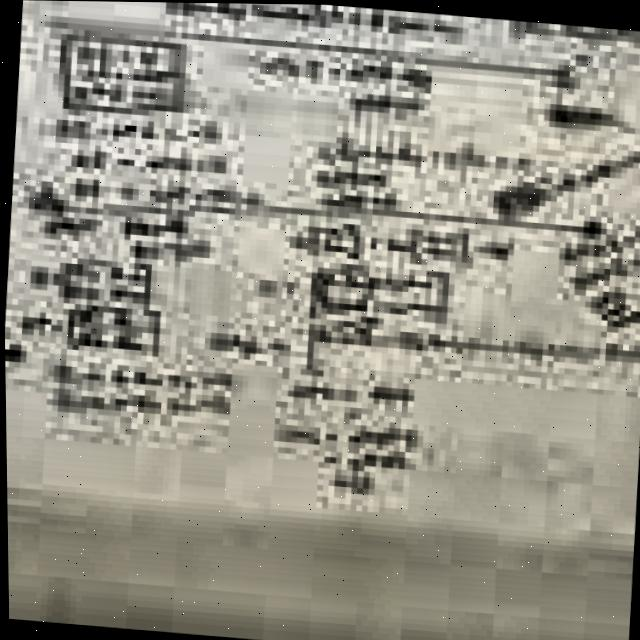paper: (4, 0, 640, 542)
